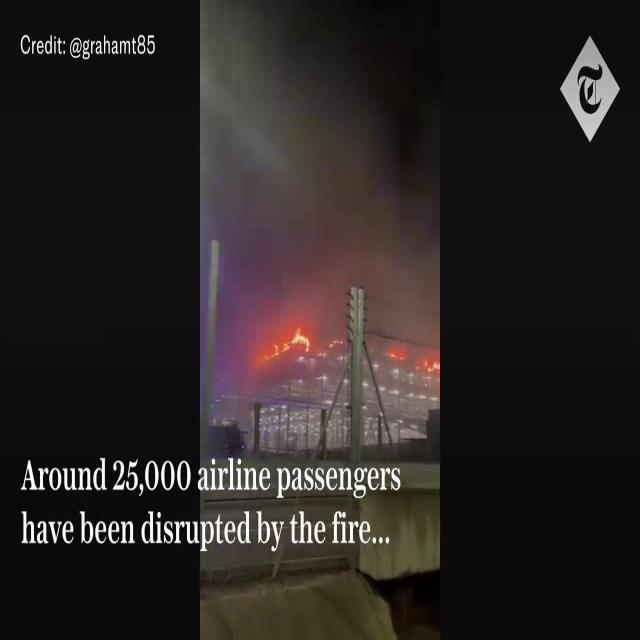Fire: (254, 322, 314, 364)
Smoke: (200, 1, 440, 322)
